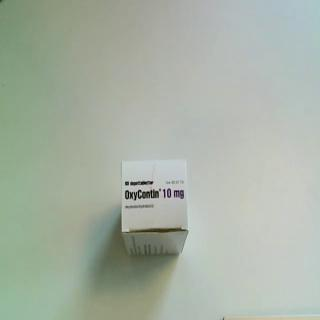oxynorm10mg: (121, 158, 191, 258)
